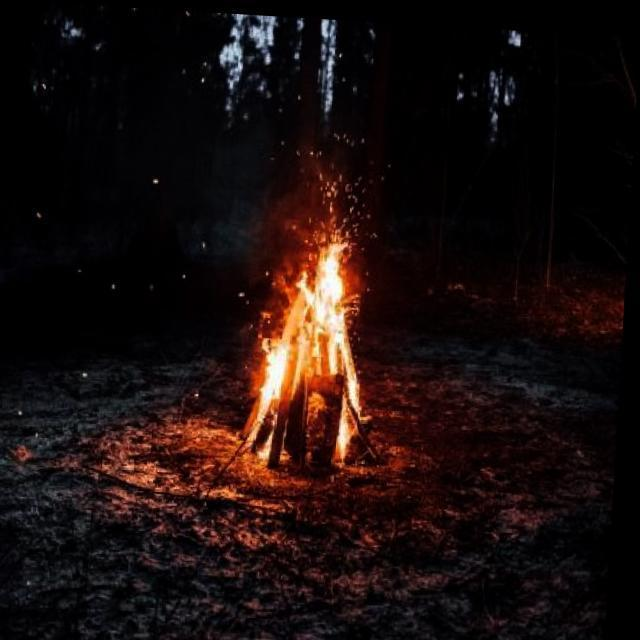Fire: (240, 132, 407, 476)
Smoke: (9, 53, 427, 284)
